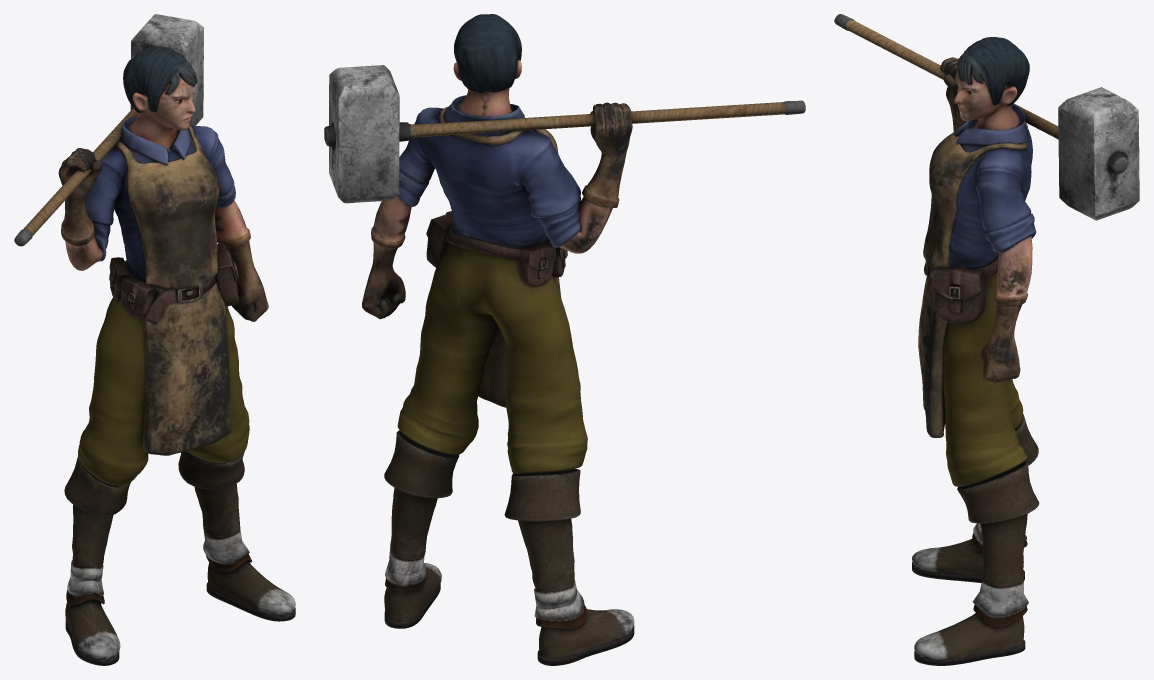
Rendered from MZ4250 - Human Female Blacksmith.glb.
3 renders of one model, left to right at view 1: azimuth 30°, elevation 25°; view 2: azimuth 150°, elevation 25°; view 3: azimuth 270°, elevation 25°, orthographic. The views are drawn at different scales.
Visible parts, largest first — view 1: Human Female Blacksmith.001; view 2: Human Female Blacksmith.001; view 3: Human Female Blacksmith.001.
Part boxes in pixels (x1,y1,x2,y2): Human Female Blacksmith.001: [14, 14, 295, 665]; Human Female Blacksmith.001: [324, 14, 805, 665]; Human Female Blacksmith.001: [834, 14, 1139, 665].
Size of the model in its own units: 20.97 by 34.78 by 16.81.
Materials: 1 (1 with a texture image).
